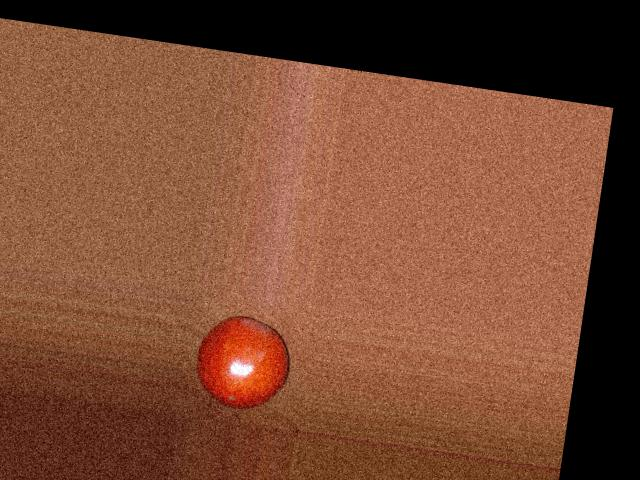tomato: (189, 311, 295, 415)
